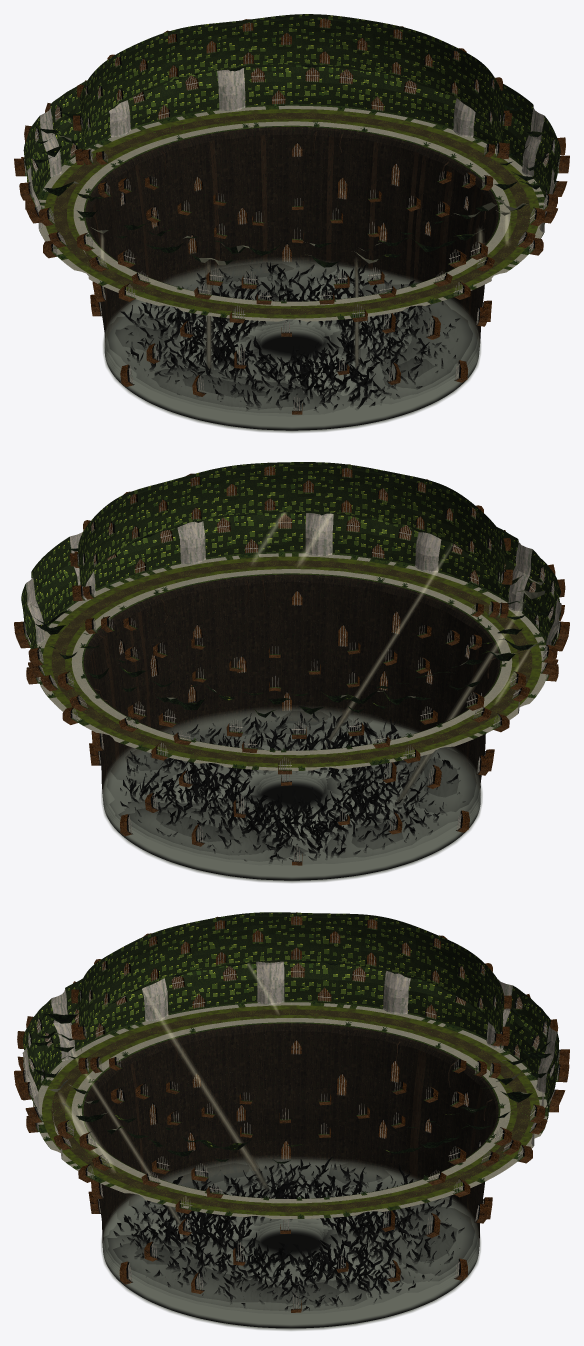
File: forest.glb
3 renders of one model, top to bottom at view 1: azimuth 30°, elevation 25°; view 2: azimuth 150°, elevation 25°; view 3: azimuth 270°, elevation 25°, orthographic.
Parts seen in each view (by area): view 1: ForestGround, ForestFog, ForestRaysSolid; view 2: ForestGround, ForestFog, ForestRaysSolid; view 3: ForestGround, ForestFog, ForestRaysSolid.
Boxes of the visible parts, <box> form: ForestGround: <box>14,14,569,430</box>; ForestFog: <box>103,258,480,432</box>; ForestRaysSolid: <box>101,215,508,367</box>; ForestGround: <box>14,462,569,880</box>; ForestFog: <box>101,707,482,882</box>; ForestRaysSolid: <box>252,512,529,799</box>; ForestGround: <box>14,912,569,1328</box>; ForestFog: <box>101,1157,480,1330</box>; ForestRaysSolid: <box>59,964,278,1241</box>.
Size of what is drawn, in the model's own units: 122 by 63.02 by 124.
16 materials, 13 textured.
